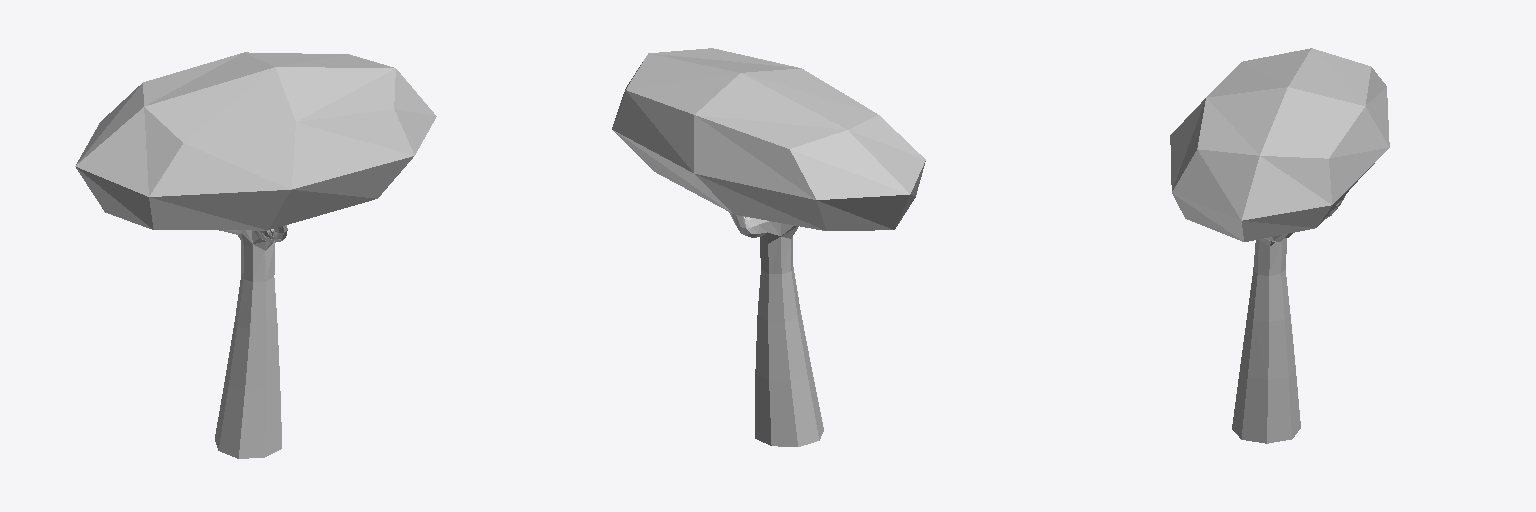
File: tree5.obj
3 views of the same model, side by side, from view 1: azimuth 30°, elevation 25°; view 2: azimuth 150°, elevation 25°; view 3: azimuth 270°, elevation 25° (orthographic).
Parts seen in each view (by area): view 1: Cube.001_Cube.003; view 2: Cube.001_Cube.003; view 3: Cube.001_Cube.003.
Boxes of the visible parts, x1,y1,x2,y2 form: Cube.001_Cube.003: [75, 52, 436, 458]; Cube.001_Cube.003: [612, 48, 925, 446]; Cube.001_Cube.003: [1170, 48, 1389, 443].
Bounding box in the file's own units: 5.09 × 5.43 × 2.99.